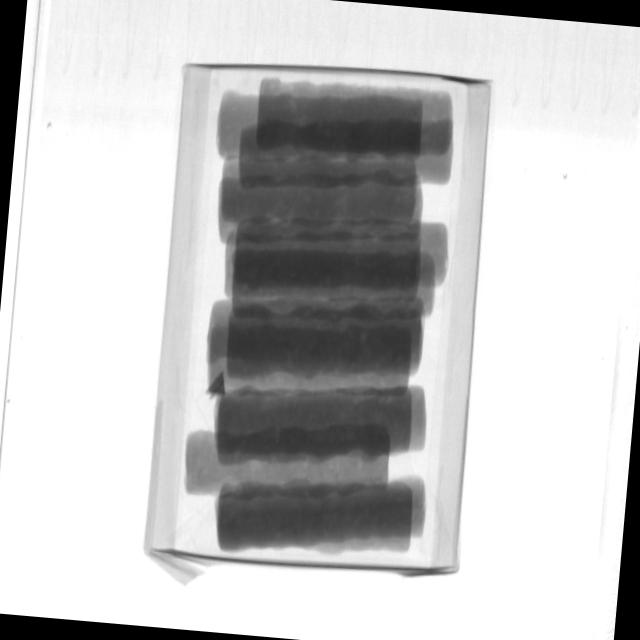ym: (205, 371, 229, 404)
